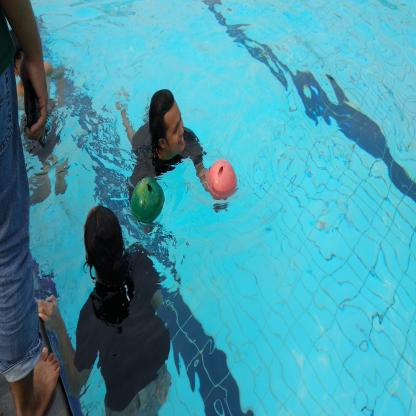green_buoy: (128, 174, 167, 228)
red_buoy: (204, 157, 242, 202)
